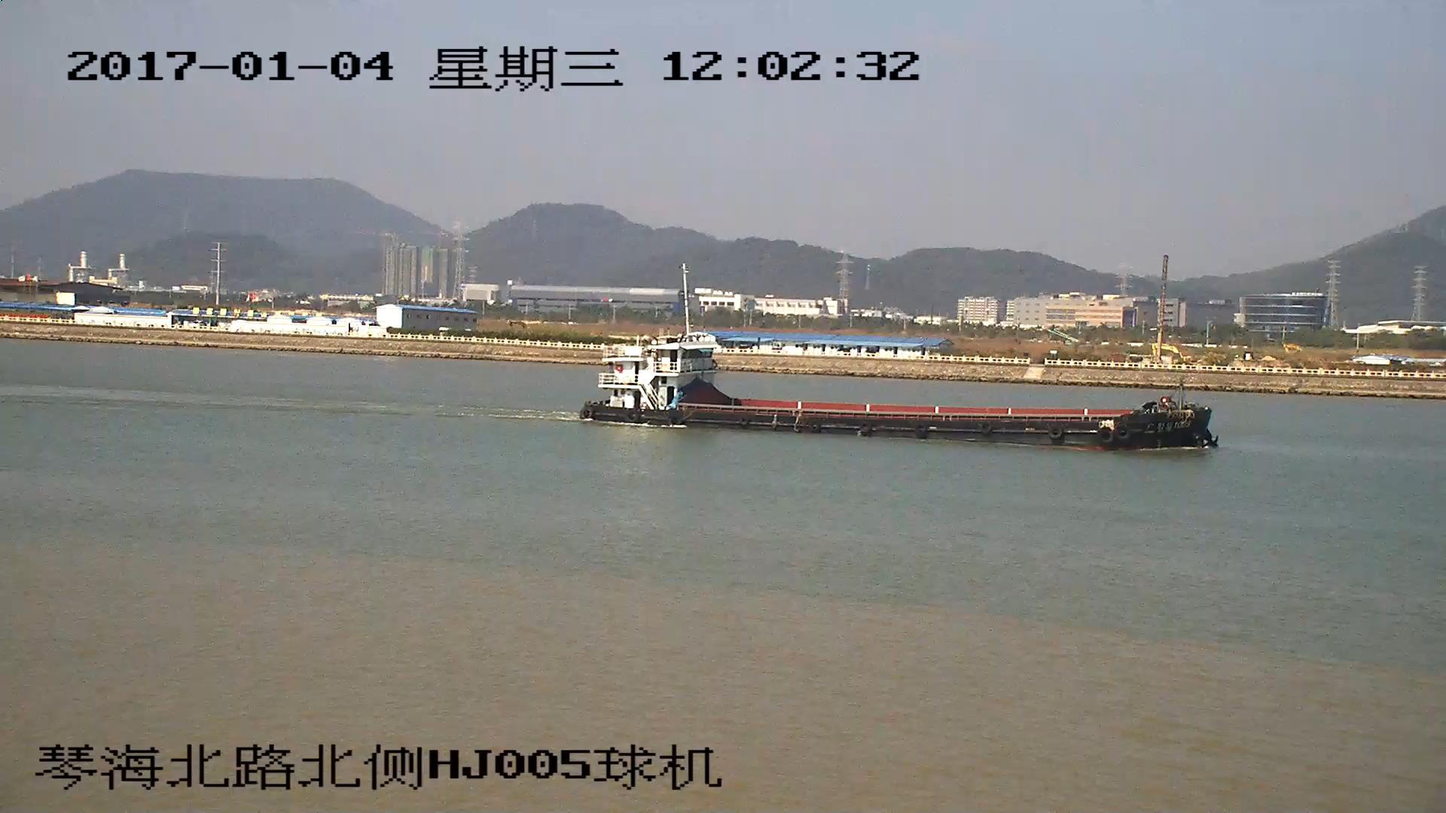general cargo ship: (577, 344, 1219, 447)
